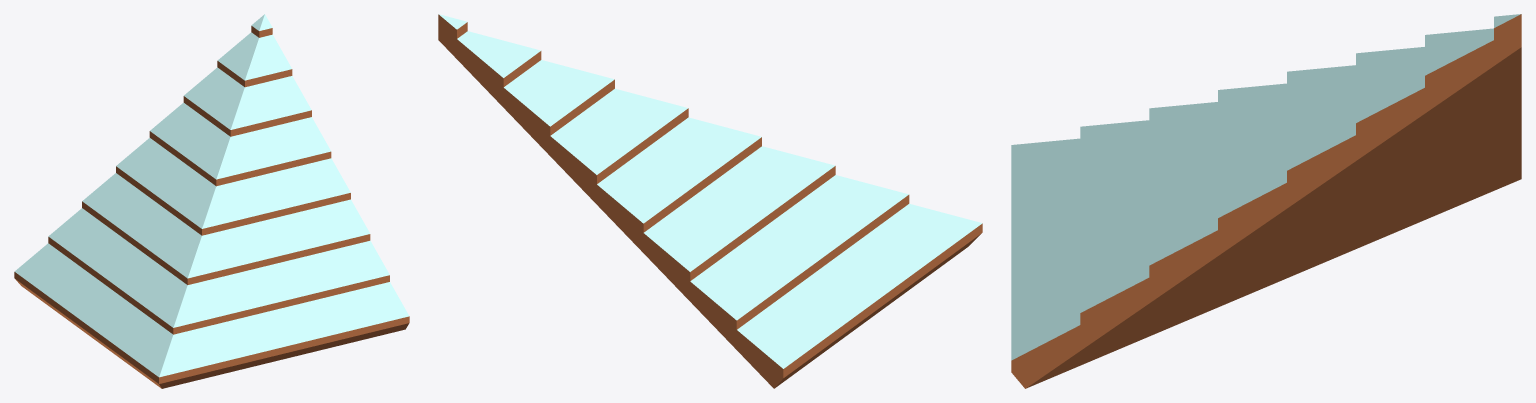
Rendered from cabinRoofCorner.fbx.
The picture shows the model from 3 angles, left to right: view 1: azimuth 30°, elevation 25°; view 2: azimuth 150°, elevation 25°; view 3: azimuth 270°, elevation 25°; orthographic projection. The views are drawn at different scales.
Visible parts, largest first — view 1: cabinRoofCorner; view 2: cabinRoofCorner; view 3: cabinRoofCorner.
Part boxes in pixels (x1=…): cabinRoofCorner: x1=14, y1=14, x2=409, y2=388; cabinRoofCorner: x1=438, y1=14, x2=982, y2=388; cabinRoofCorner: x1=1011, y1=14, x2=1521, y2=388.
Size of the model in its own units: 11.15 by 9.05 by 11.15.
